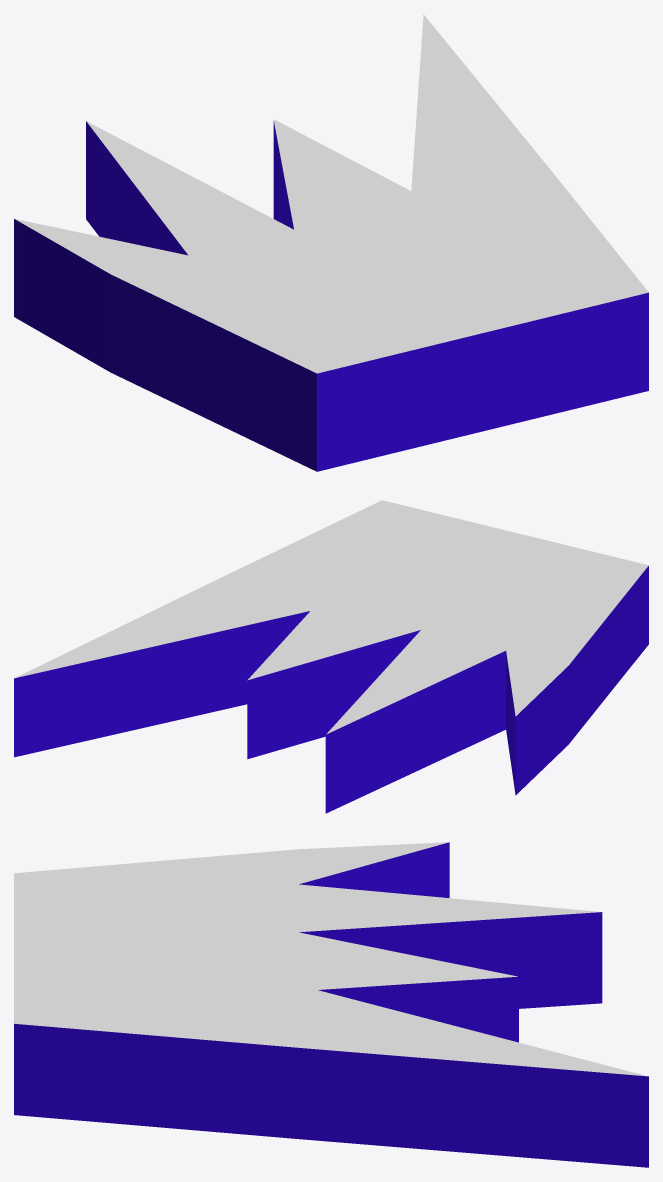
The model's file is fourspikes_Crown_N_1.fbx.
3 renders of one model, top to bottom at view 1: azimuth 30°, elevation 25°; view 2: azimuth 150°, elevation 25°; view 3: azimuth 270°, elevation 25°, orthographic. The views are drawn at different scales.
Visible parts, largest first — view 1: pCube1; view 2: pCube1; view 3: pCube1.
Part boxes in pixels (left/top/right/bottom): pCube1: left=14, top=14, right=648, bottom=471; pCube1: left=14, top=500, right=648, bottom=813; pCube1: left=14, top=842, right=648, bottom=1167.
Bounding box in the file's own units: 4.26 × 0.7739 × 4.88.
